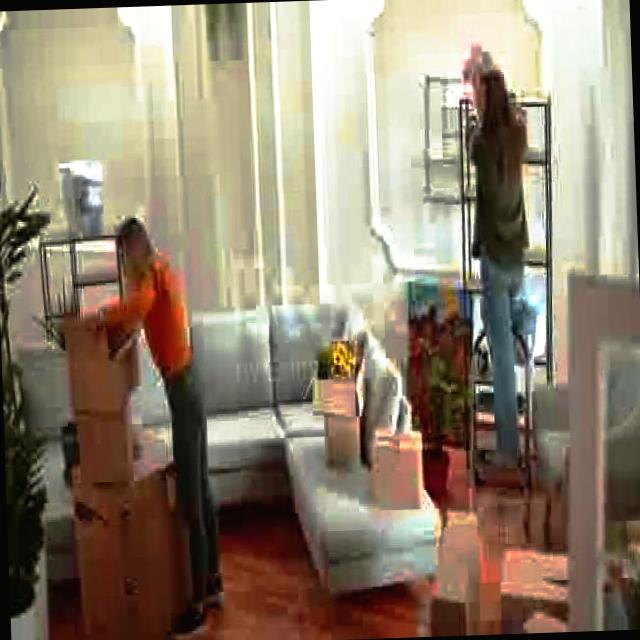Box: (75, 487, 182, 632), (430, 504, 478, 630), (65, 334, 139, 409), (362, 430, 423, 520), (504, 534, 566, 614), (74, 410, 138, 484), (314, 382, 365, 460)
